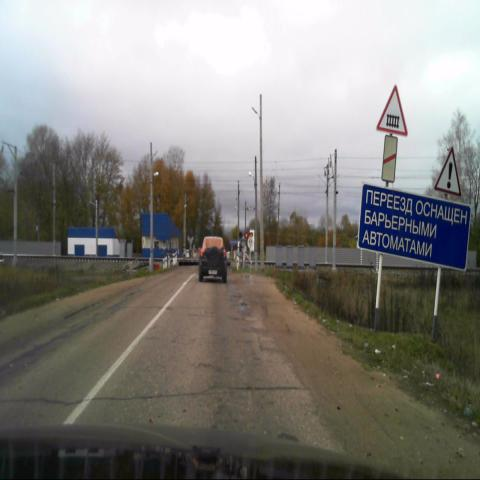1_33: (433, 147, 461, 196)
